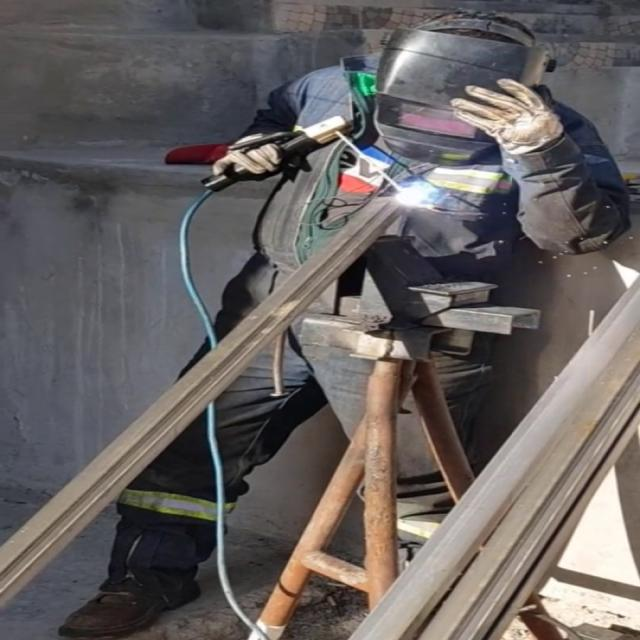gloved: (447, 77, 565, 154), (210, 133, 284, 178)
